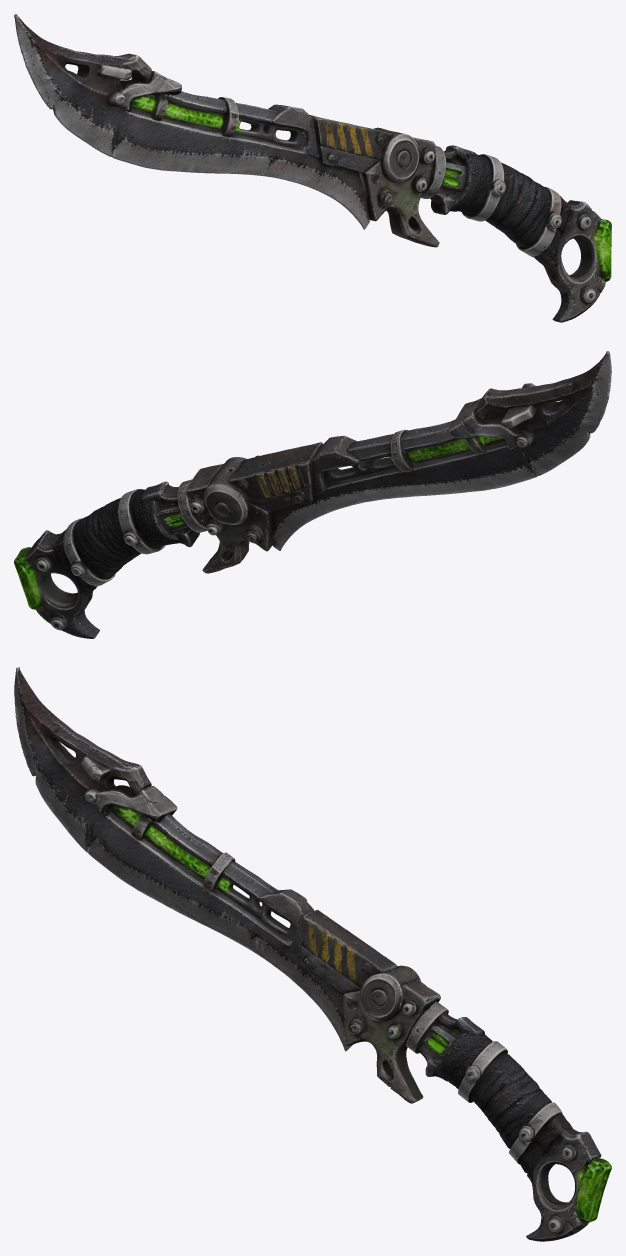
Rendered from espada.fbx.
3 views of the same model, one above another, from view 1: azimuth 30°, elevation 25°; view 2: azimuth 150°, elevation 25°; view 3: azimuth 330°, elevation 25° (orthographic).
Parts seen in each view (by area): view 1: tripo_node_c2084467; view 2: tripo_node_c2084467; view 3: tripo_node_c2084467.
Part boxes in pixels (x1,y1,x2,y2): tripo_node_c2084467: (14,14,611,322); tripo_node_c2084467: (14,351,611,638); tripo_node_c2084467: (14,667,611,1241).
Bounding box in the file's own units: 98.03 × 11.1 × 67.28.
Materials: 1 (1 with a texture image).
